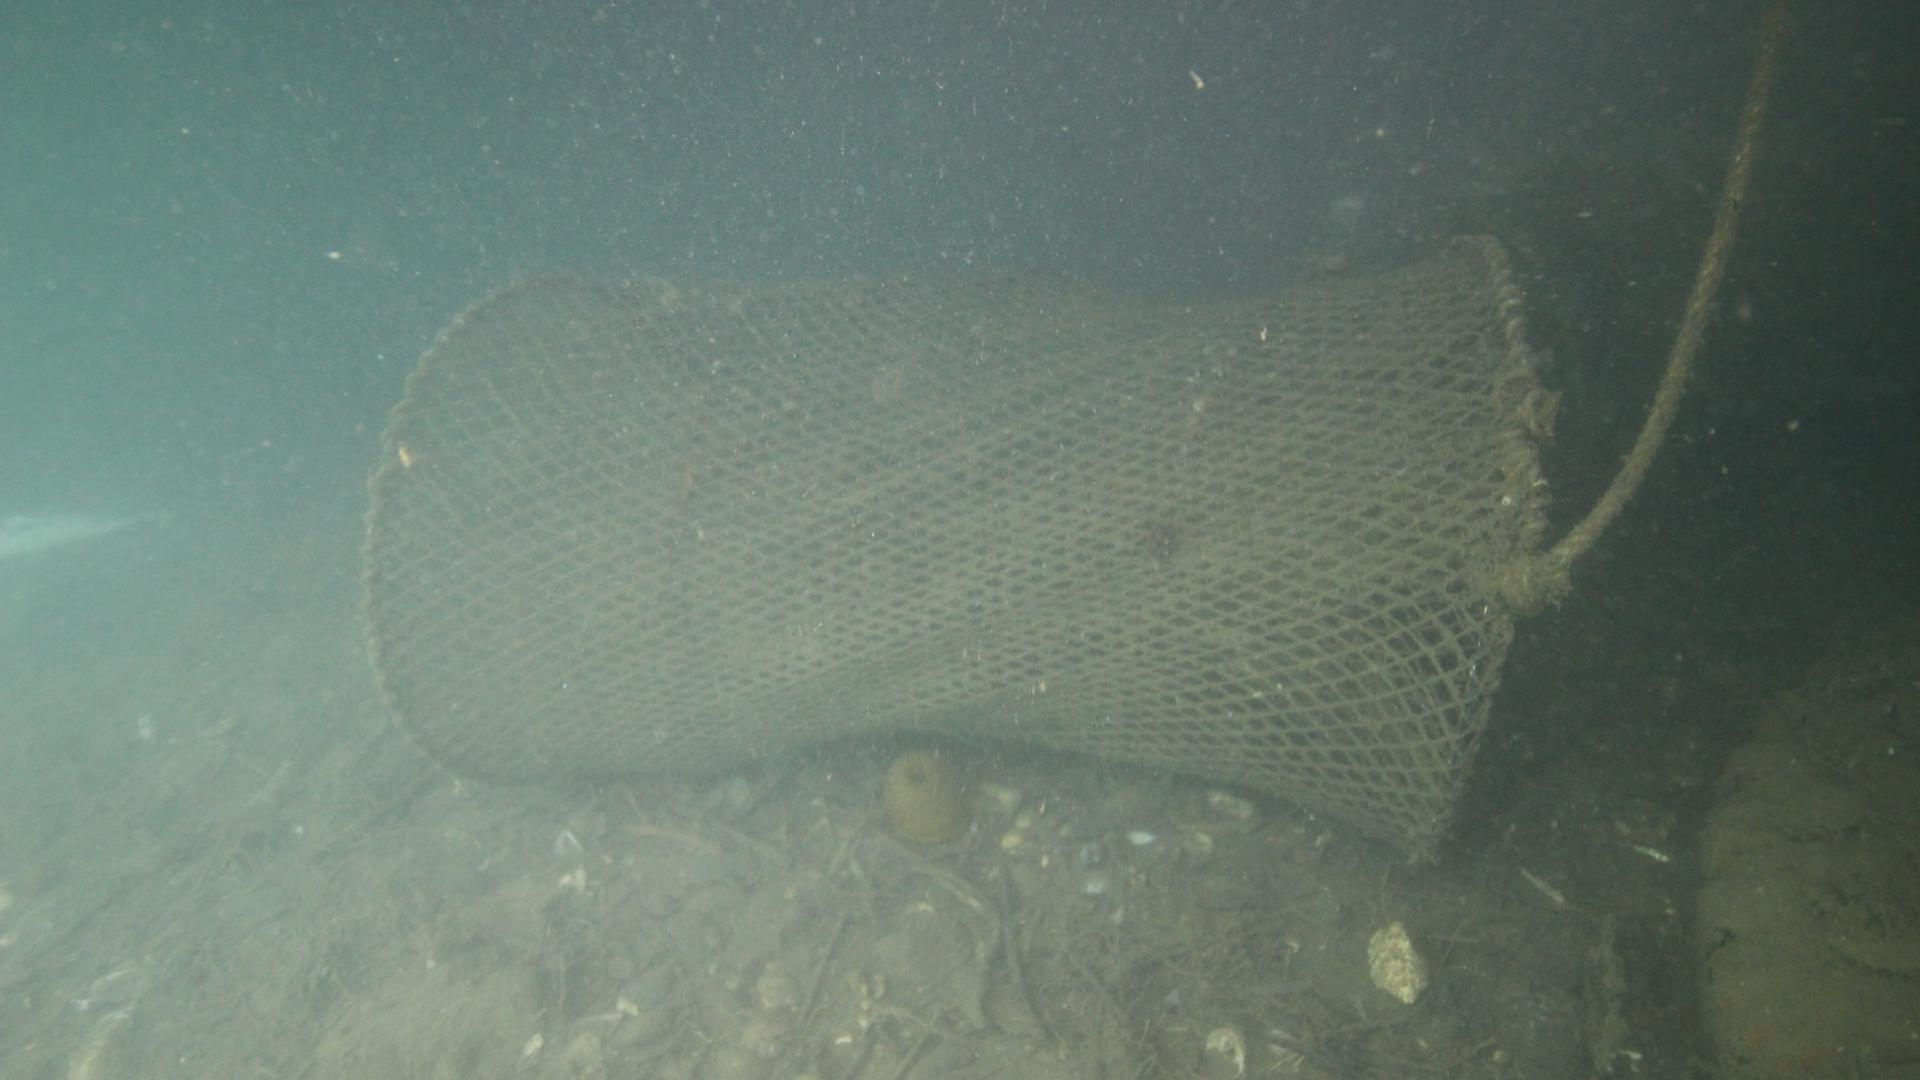rope: (1547, 58, 1776, 576)
spring fish trap: (359, 229, 1553, 869)
